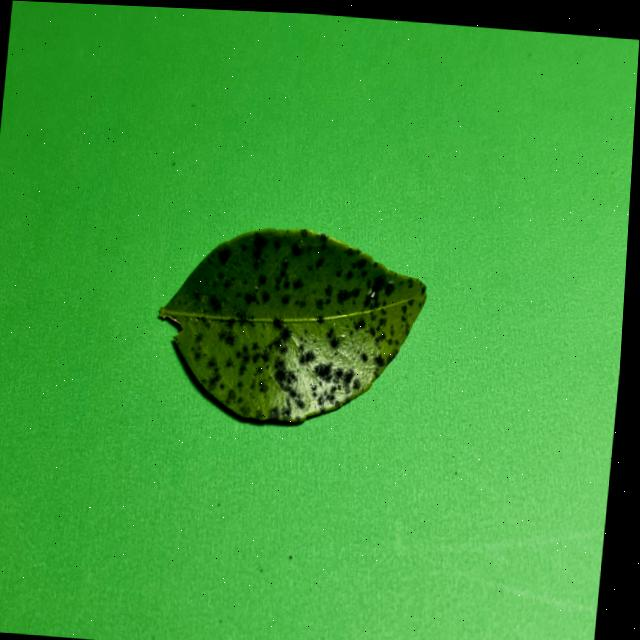sooty_mold: (159, 229, 425, 422)
